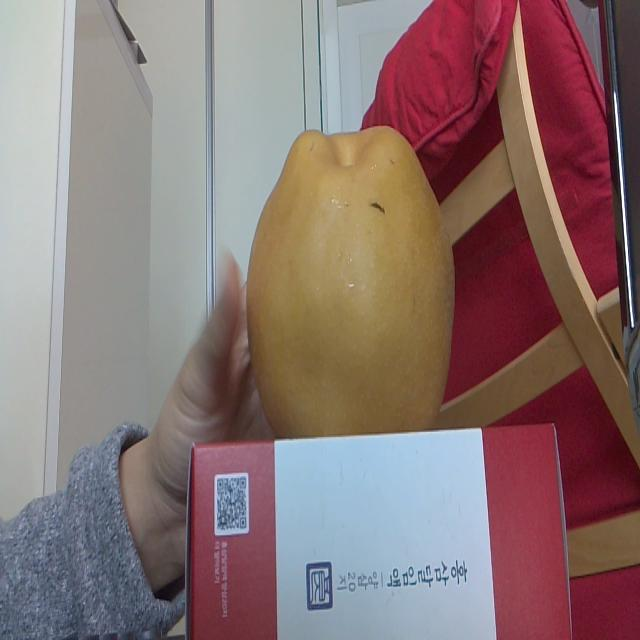pear: (247, 126, 456, 444)
